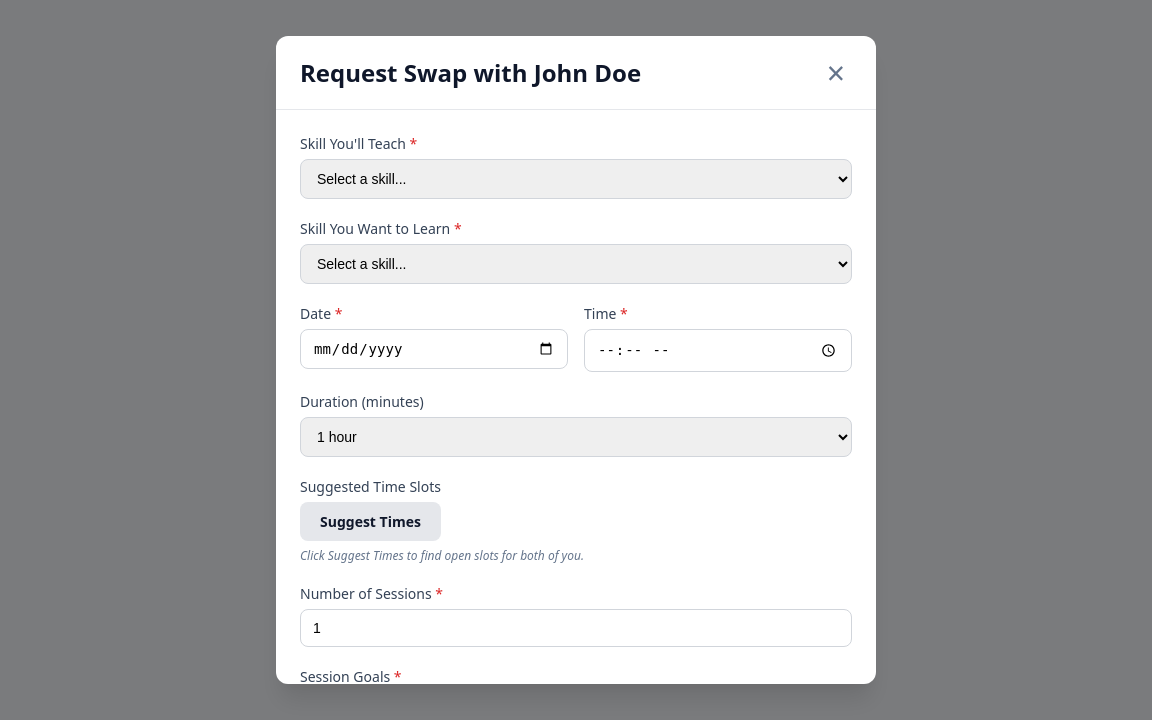
Test case: SwapRequestModal Component › renders suggested slots in selected timezone when profile timezone is EST
Click the button "Suggest Times" at [370, 521], box x1=300 y1=502 x2=441 y2=541
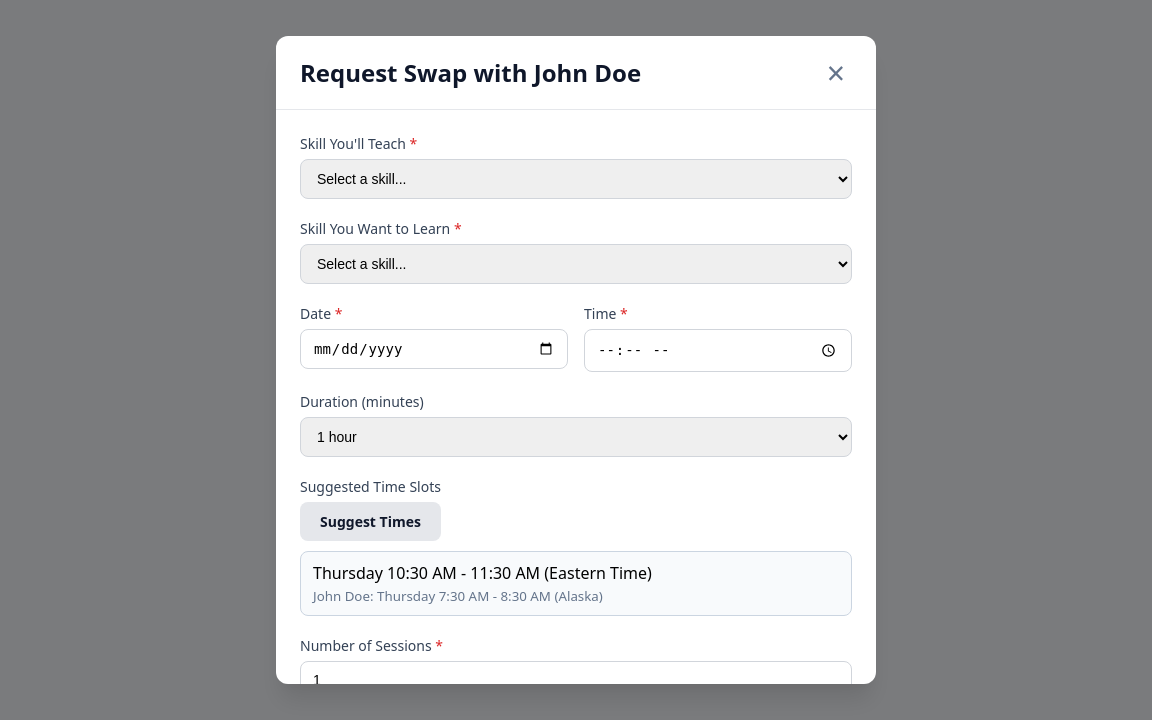
Expected: the text "Thursday 10:30 AM - 11:30 AM (Eastern Time)" is shown, x1=313 y1=562 x2=652 y2=584
Expected: the text "John Doe: Thursday 7:30 AM - 8:30 AM (Alaska)" is shown, x1=313 y1=587 x2=603 y2=605
